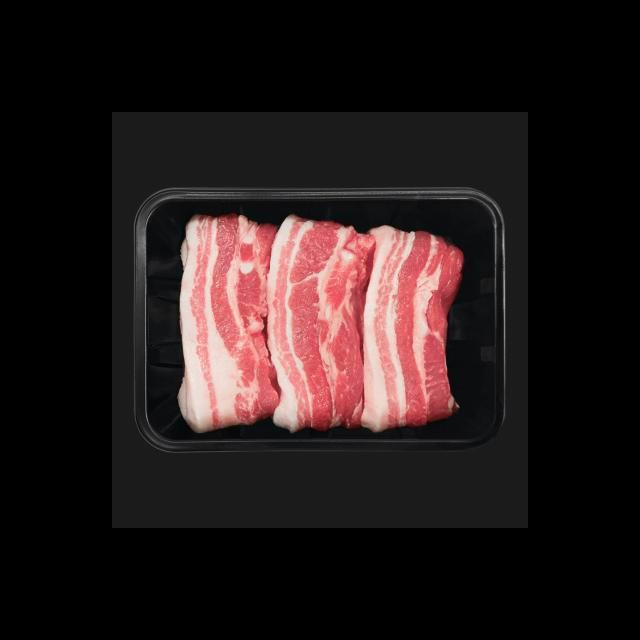pork: (172, 210, 476, 437)
